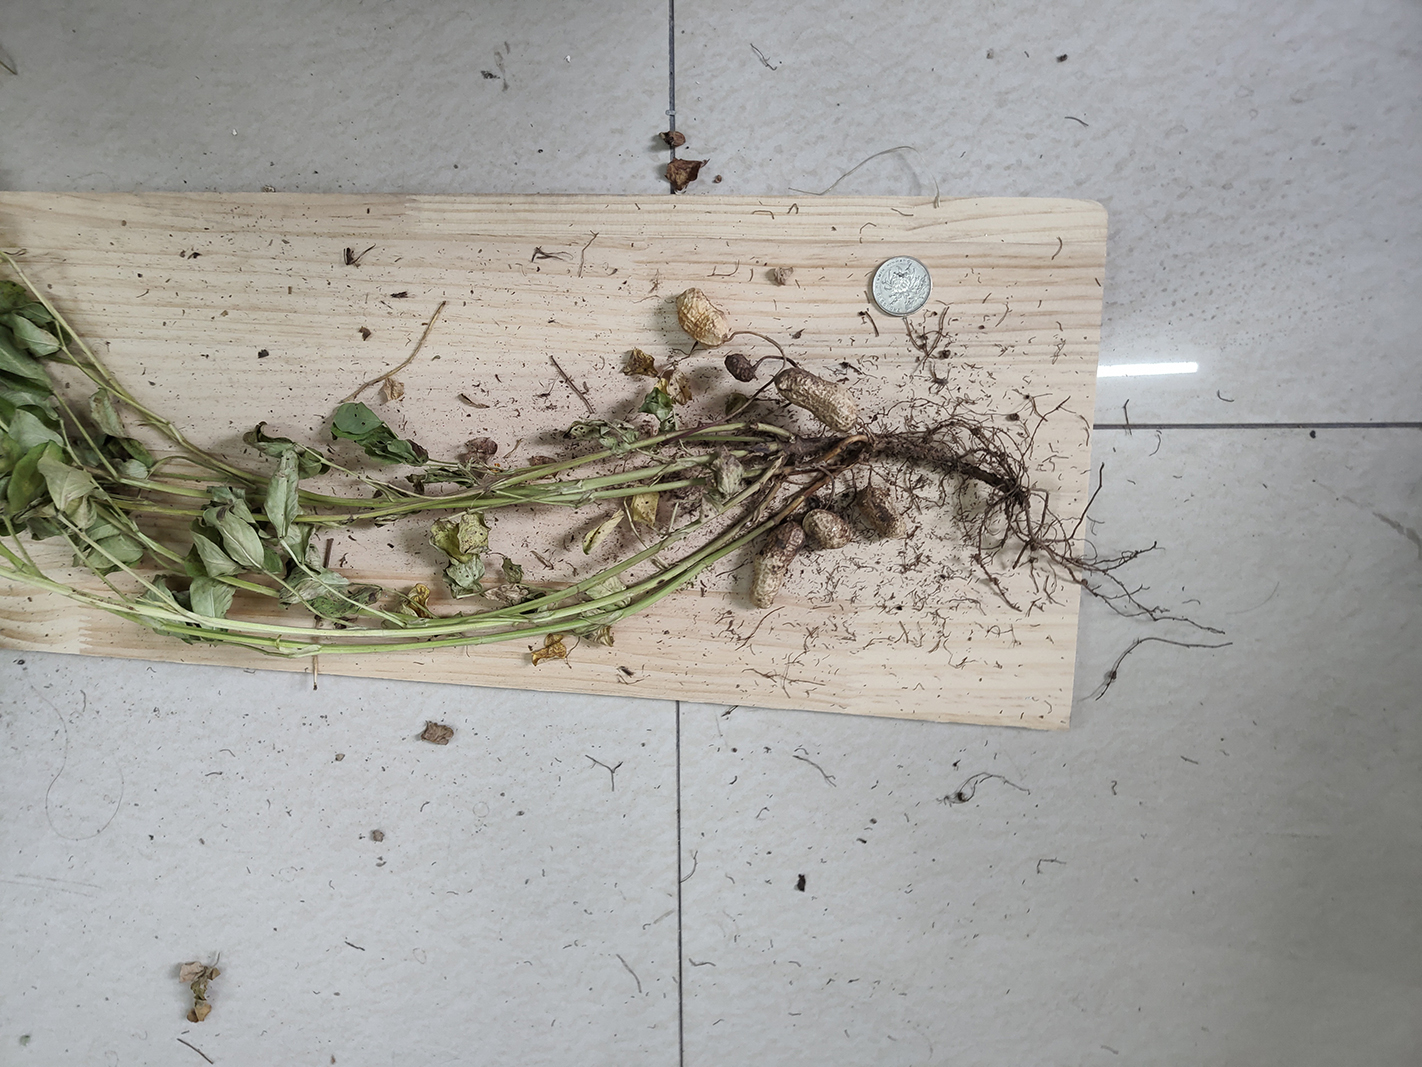h: (774, 369, 858, 430), (751, 520, 806, 607), (676, 287, 732, 346), (803, 508, 851, 549)
l: (859, 488, 907, 540), (725, 352, 756, 383)
